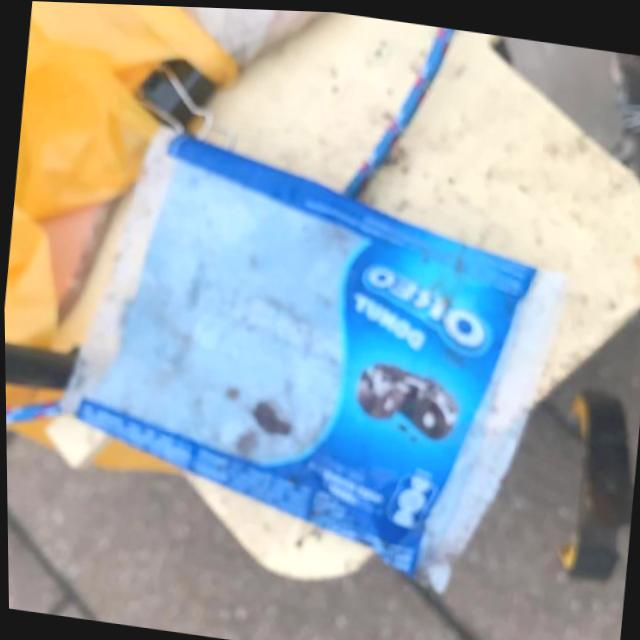Plastic: (24, 99, 593, 611)
